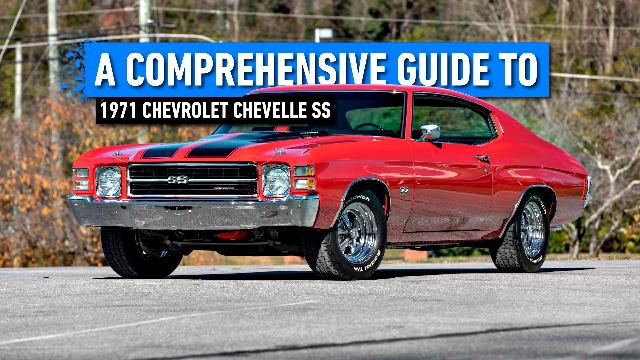chevelle-1972: (67, 84, 592, 279)
